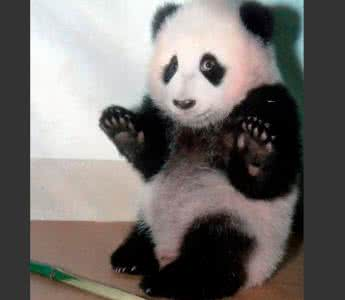panda: (96, 1, 302, 300)
